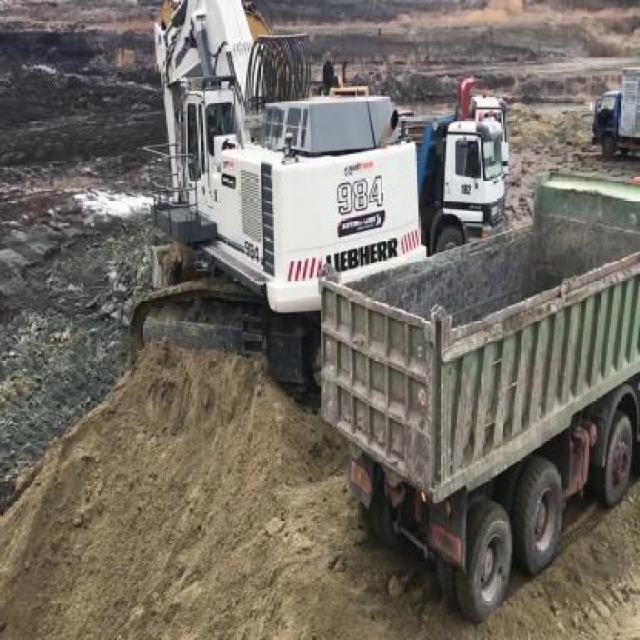Dump Truck: (318, 173, 639, 630), (410, 120, 504, 254), (591, 64, 638, 158)
Excavator: (125, 0, 422, 408)
